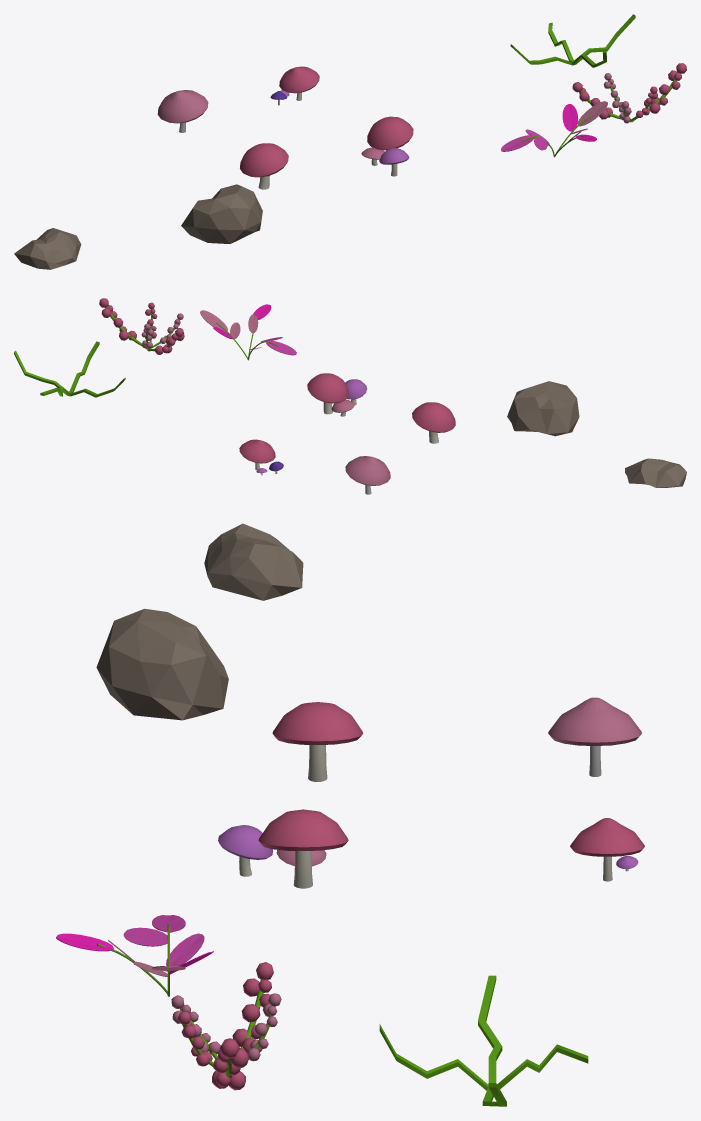
File: vegetatie kleur.fbx
3 views of the same model, one above another, from view 1: azimuth 30°, elevation 25°; view 2: azimuth 150°, elevation 25°; view 3: azimuth 270°, elevation 25° (orthographic). The views are drawn at different scales.
Parts seen in each view (by area): view 1: ROCK, Sphere001, ROCK2, Sphere032, Line003, Sphere005, Sphere006, Box001, Sphere007; view 2: ROCK, Sphere001, Sphere032, ROCK2, Line003, Sphere005, Sphere006, Box001, Sphere007; view 3: ROCK, ROCK2, Sphere001, Sphere032, Sphere005, Sphere006, Line003, Box001, Sphere007.
Part boxes in pixels (left/top/right/bottom): ROCK: left=181, top=184, right=262, bottom=243; Sphere001: left=361, top=116, right=413, bottom=176; ROCK2: left=14, top=228, right=81, bottom=269; Sphere032: left=572, top=63, right=686, bottom=123; Line003: left=501, top=101, right=607, bottom=157; Sphere005: left=240, top=143, right=288, bottom=189; Sphere006: left=157, top=90, right=208, bottom=132; Box001: left=510, top=14, right=635, bottom=67; Sphere007: left=270, top=66, right=319, bottom=105; ROCK: left=507, top=381, right=579, bottom=436; Sphere001: left=307, top=373, right=367, bottom=416; Sphere032: left=99, top=298, right=184, bottom=354; ROCK2: left=625, top=458, right=686, bottom=487; Line003: left=200, top=304, right=296, bottom=360; Sphere005: left=412, top=402, right=455, bottom=443; Sphere006: left=345, top=456, right=390, bottom=494; Box001: left=14, top=341, right=125, bottom=397; Sphere007: left=239, top=439, right=283, bottom=475; ROCK: left=96, top=608, right=228, bottom=720; ROCK2: left=204, top=523, right=303, bottom=600; Sphere001: left=218, top=809, right=348, bottom=888; Sphere032: left=171, top=962, right=281, bottom=1090; Sphere005: left=272, top=702, right=363, bottom=781; Sphere006: left=548, top=697, right=641, bottom=776; Line003: left=56, top=915, right=213, bottom=996; Box001: left=379, top=975, right=588, bottom=1106; Sphere007: left=570, top=818, right=644, bottom=881.
Size of the model in its own units: 182 by 12.87 by 76.26.
